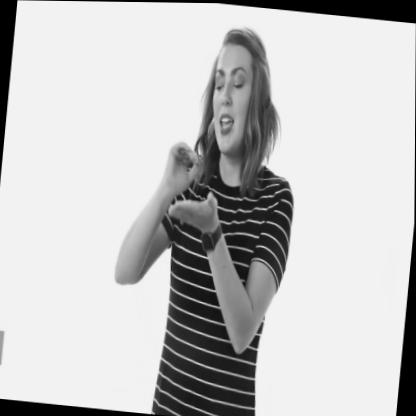ExcuseMe: (152, 122, 225, 242)
